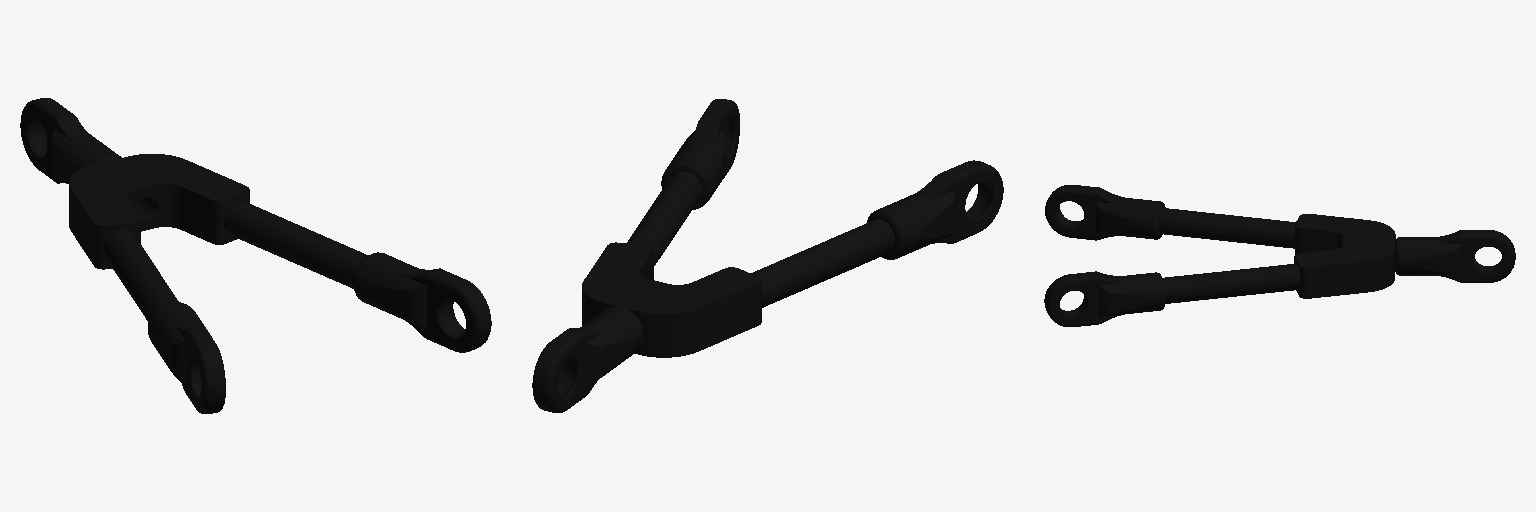
URDF robot description (high_arm.SLDASM):
<robot
  name="high_arm.SLDASM">
  <link
    name="base_link">
    <inertial>
      <origin
        xyz="-0.0815535511818761 0.233061269109021 0.0196907233562932"
        rpy="0 0 0" />
      <mass
        value="0.00620217772261714" />
      <inertia
        ixx="6.50546626255343E-07"
        ixy="7.72765315226718E-08"
        ixz="-1.33832228857519E-07"
        iyy="2.58476881974073E-06"
        iyz="-2.50453986005305E-07"
        izz="2.87396756757517E-06" />
    </inertial>
    <visual>
      <origin
        xyz="0 0 0"
        rpy="0 0 0" />
      <geometry>
        <mesh
          filename="package://high_arm.SLDASM/meshes/base_link.STL" />
      </geometry>
      <material
        name="">
        <color
          rgba="0.101960784313725 0.101960784313725 0.101960784313725 1" />
      </material>
    </visual>
    <collision>
      <origin
        xyz="0 0 0"
        rpy="0 0 0" />
      <geometry>
        <mesh
          filename="package://high_arm.SLDASM/meshes/base_link.STL" />
      </geometry>
    </collision>
  </link>
</robot>

--- What the picture shows (computed from the rendered views, not written in the file) ---
Views: 3 orthographic renders of the robot side by side, from view 1: azimuth 30°, elevation 25°; view 2: azimuth 150°, elevation 25°; view 3: azimuth 270°, elevation 25°.
Robot: high_arm.SLDASM — 1 links, 0 joints (none); root link base_link; default pose: every joint at zero.
Links seen in each view (by area): view 1: base_link; view 2: base_link; view 3: base_link.
Link boxes in pixels (x1,y1,x2,y2): base_link: (20, 98, 491, 413); base_link: (532, 99, 1003, 412); base_link: (1044, 185, 1515, 326).
Bounding box of the posed robot: 0.0438 × 0.0862 × 0.0099 m (x, y, z).
1 mesh visuals loaded from 1 distinct referenced files (1 binary STL).